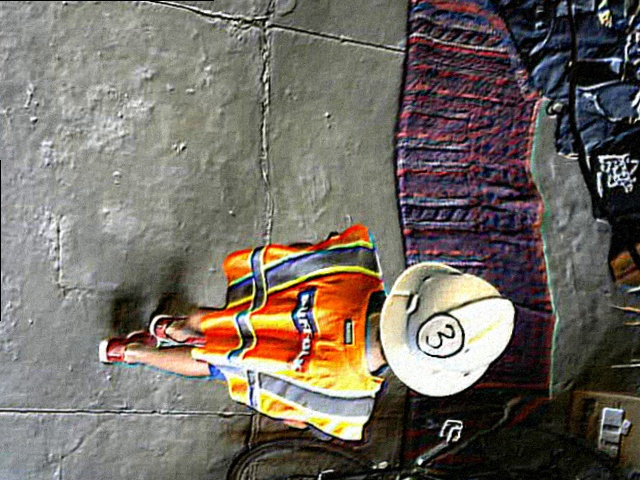three: (415, 314, 467, 359)
